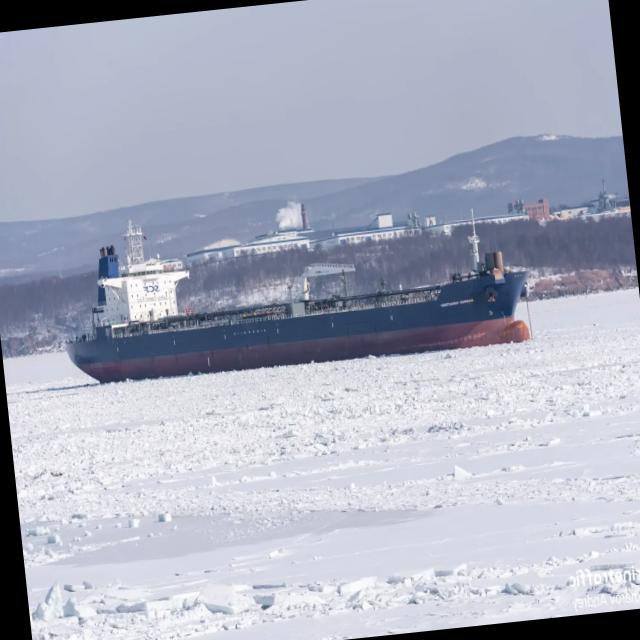Tanker: (66, 219, 530, 382)
